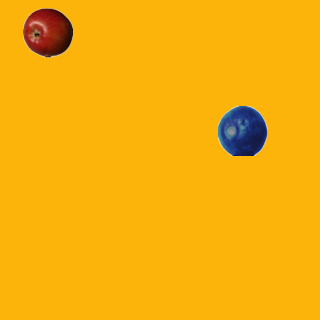Apple Braeburn: (22, 7, 72, 57)
Huckleberry: (217, 105, 267, 155)
